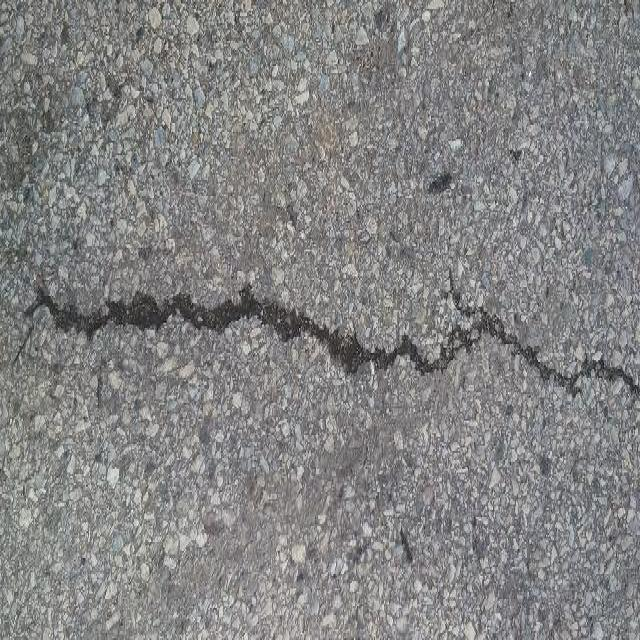GRIETA: (24, 285, 639, 398)
